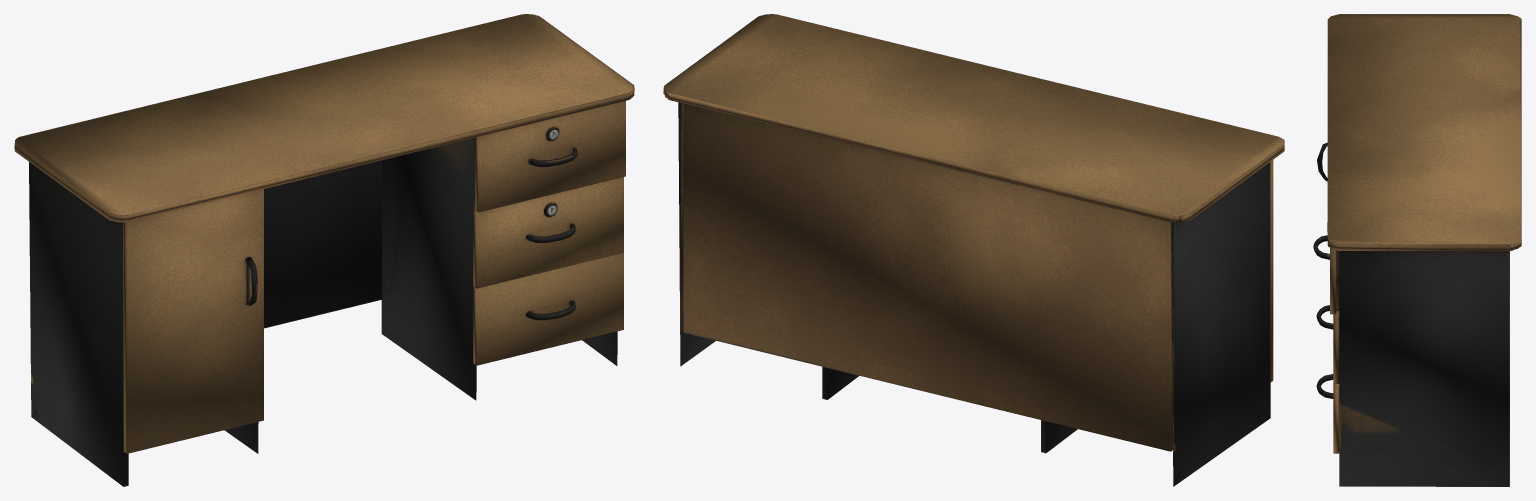
The model's file is OfficeTable.fbx.
3 renders of one model, left to right at view 1: azimuth 30°, elevation 25°; view 2: azimuth 150°, elevation 25°; view 3: azimuth 270°, elevation 25°, orthographic. The views are drawn at different scales.
Parts seen in each view (by area): view 1: OfficeTable; view 2: OfficeTable; view 3: OfficeTable.
Part boxes in pixels (<box>): OfficeTable: <box>14,14,634,486</box>; OfficeTable: <box>663,14,1284,486</box>; OfficeTable: <box>1313,14,1521,486</box>.
Size of the model in its own units: 181 by 91.24 by 69.13.
Materials: 1 (1 with a texture image).
